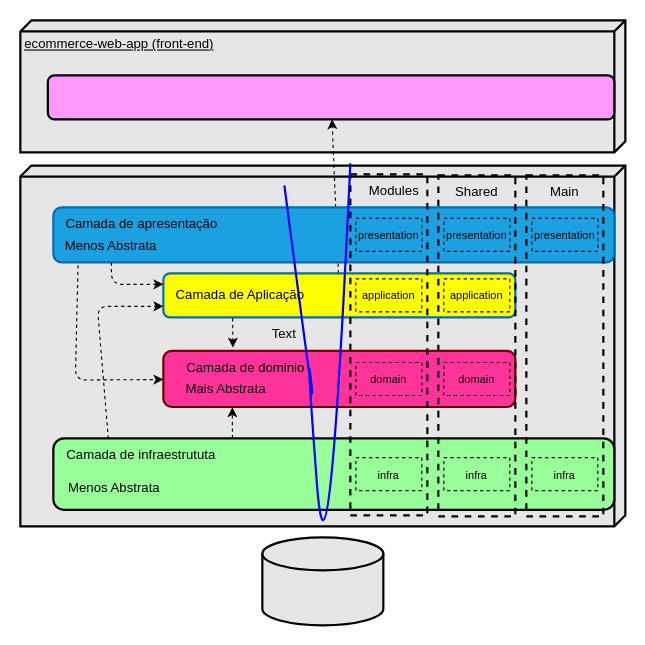
This 645x645 diagram has some shape labels left out. The shapes that lost their labels are listed below. From the top down, each one's box as (x1, y1, x2, y2) in pixels, then its label:
(46, 74, 615, 120): Interface de Usuário
(19, 164, 626, 527): ecommerce-node-api (back-end)
(261, 536, 384, 626): Database (Relacional)
